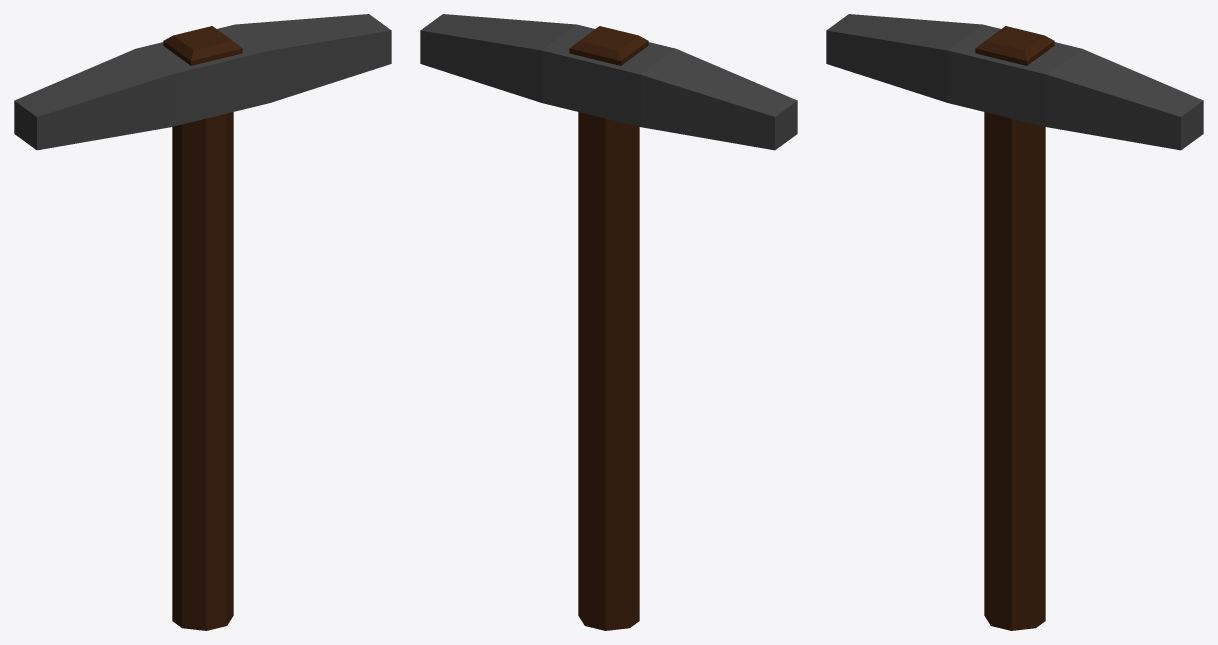
Rendered from TacHammer_FBX.fbx.
3 renders of one model, left to right at view 1: azimuth 30°, elevation 25°; view 2: azimuth 150°, elevation 25°; view 3: azimuth 330°, elevation 25°, orthographic.
Parts seen in each view (by area): view 1: Tac_Hammer; view 2: Tac_Hammer; view 3: Tac_Hammer.
Part boxes in pixels (left/top/right/bottom): Tac_Hammer: left=14, top=14, right=391, bottom=630; Tac_Hammer: left=420, top=14, right=797, bottom=630; Tac_Hammer: left=826, top=14, right=1203, bottom=630.
Size of the model in its own units: 16.89 by 26.39 by 2.92.
